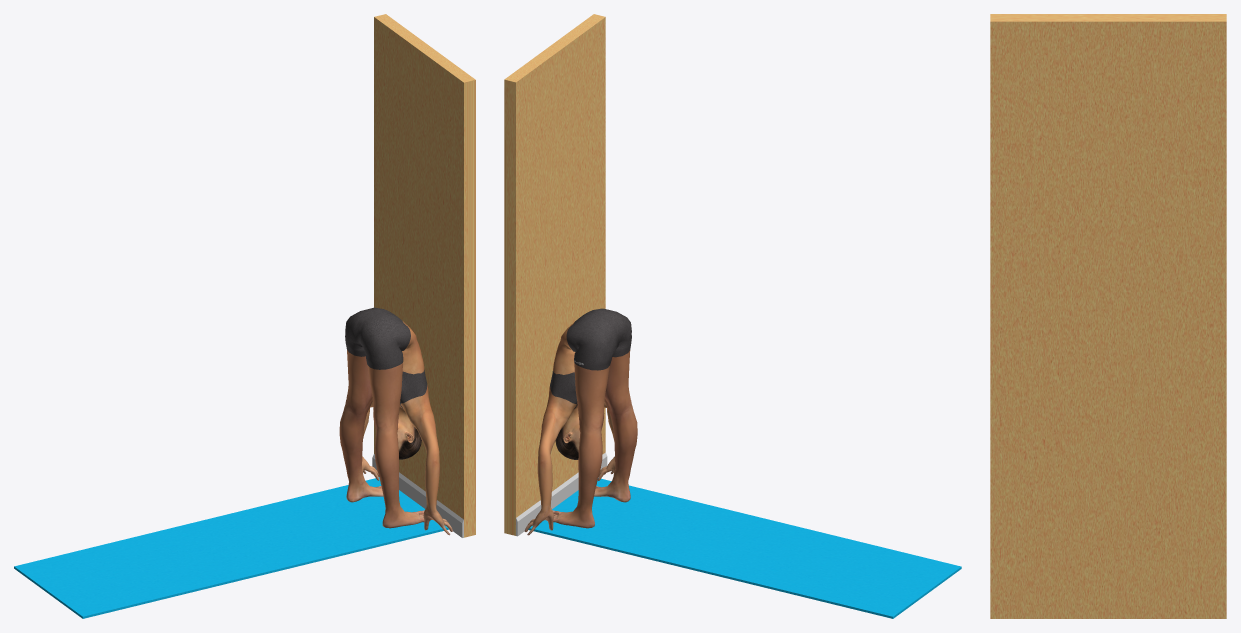
File: uttanasana.glb
3 renders of one model, left to right at view 1: azimuth 30°, elevation 25°; view 2: azimuth 150°, elevation 25°; view 3: azimuth 270°, elevation 25°, orthographic. The views are drawn at different scales.
Visible parts, largest first — view 1: Wall5_jpg-material, Mat-one-piece_jpg-material, Lily_Texture01_06_2016_jpg-material, mesh; view 2: Wall5_jpg-material, Mat-one-piece_jpg-material, Lily_Texture01_06_2016_jpg-material, mesh; view 3: Wall5_jpg-material.
Part boxes in pixels (<box>): Wall5_jpg-material: <box>374,14,475,537</box>; Mat-one-piece_jpg-material: <box>14,477,448,618</box>; Lily_Texture01_06_2016_jpg-material: <box>339,307,452,535</box>; mesh: <box>372,454,463,537</box>; Wall5_jpg-material: <box>504,14,605,535</box>; Mat-one-piece_jpg-material: <box>528,478,961,618</box>; Lily_Texture01_06_2016_jpg-material: <box>524,308,637,535</box>; mesh: <box>516,452,607,536</box>; Wall5_jpg-material: <box>990,14,1226,618</box>.
Size of the model in its own units: 6.4 by 7.31 by 2.62.
4 materials, 3 textured.
